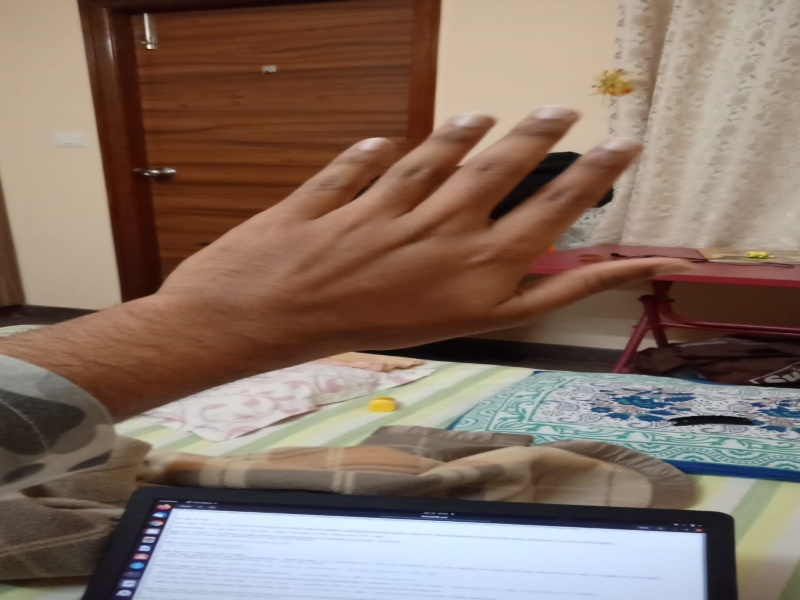Hand: (147, 100, 700, 397)
